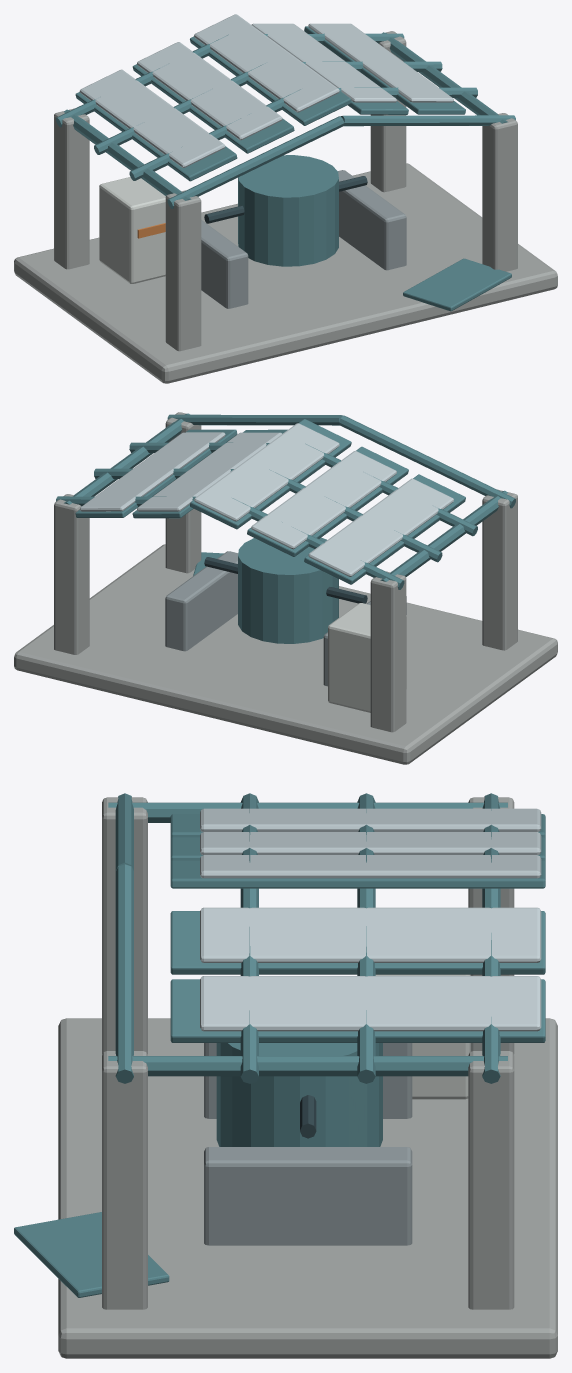
Rendered from AbandonedCableStation.glb.
The picture shows the model from 3 angles, top to bottom: view 1: azimuth 30°, elevation 25°; view 2: azimuth 150°, elevation 25°; view 3: azimuth 270°, elevation 25°; orthographic projection. The views are drawn at different scales.
Visible parts, largest first — view 1: Cable shelter foundation, Abandoned cable drum, Maintenance cabinet, Canopy snow slab, Canopy snow slab.001, Canopy snow slab.002, Concrete cable pier, Concrete cable pier.002, Concrete cable pier.001, Winch foot.001, Canopy snow slab.004, Canopy snow slab.003 (+16 smaller); view 2: Cable shelter foundation, Abandoned cable drum, Canopy snow slab, Canopy snow slab.002, Canopy snow slab.001, Concrete cable pier.001, Concrete cable pier.003, Concrete cable pier, Winch foot.001, Maintenance cabinet, Canopy snow slab.004, Canopy snow slab.003 (+14 smaller); view 3: Cable shelter foundation, Winch foot.001, Canopy snow slab.003, Canopy snow slab.004, Abandoned cable drum, Concrete cable pier.003, Concrete cable pier.002, Canopy snow slab.002, Canopy snow slab, Canopy snow slab.001, Concrete cable pier, Upper steel tie.001 (+15 smaller).
Boxes of the visible parts, <box> form: Cable shelter foundation: <box>14,163,557,383</box>; Abandoned cable drum: <box>238,155,338,266</box>; Maintenance cabinet: <box>99,177,165,283</box>; Canopy snow slab: <box>79,69,225,167</box>; Canopy snow slab.001: <box>137,42,282,140</box>; Canopy snow slab.002: <box>194,14,339,112</box>; Concrete cable pier: <box>165,190,201,351</box>; Concrete cable pier.002: <box>482,113,517,271</box>; Concrete cable pier.001: <box>54,108,89,269</box>; Winch foot.001: <box>338,170,406,270</box>; Canopy snow slab.004: <box>308,23,453,102</box>; Canopy snow slab.003: <box>251,23,396,102</box>; Cable shelter foundation: <box>14,544,557,764</box>; Abandoned cable drum: <box>238,537,338,643</box>; Canopy snow slab: <box>308,478,453,576</box>; Canopy snow slab.002: <box>194,423,339,521</box>; Canopy snow slab.001: <box>251,451,396,549</box>; Concrete cable pier.001: <box>370,571,406,732</box>; Concrete cable pier.003: <box>54,494,89,654</box>; Concrete cable pier: <box>482,489,517,650</box>; Winch foot.001: <box>165,551,238,651</box>; Maintenance cabinet: <box>328,603,406,712</box>; Canopy snow slab.004: <box>79,432,225,511</box>; Canopy snow slab.003: <box>137,432,282,511</box>; Cable shelter foundation: <box>58,1018,557,1358</box>; Winch foot.001: <box>204,1147,412,1245</box>; Canopy snow slab.003: <box>200,907,541,962</box>; Canopy snow slab.004: <box>200,976,541,1031</box>; Abandoned cable drum: <box>216,1043,382,1146</box>; Concrete cable pier.003: <box>468,1051,514,1309</box>; Concrete cable pier.002: <box>102,1051,147,1309</box>; Canopy snow slab.002: <box>200,855,541,878</box>; Canopy snow slab: <box>200,808,541,831</box>; Canopy snow slab.001: <box>200,832,541,854</box>; Concrete cable pier: <box>102,797,147,1054</box>; Upper steel tie.001: <box>108,1056,507,1076</box>.
Size of the model in its own units: 9 by 4.61 by 6.53.
